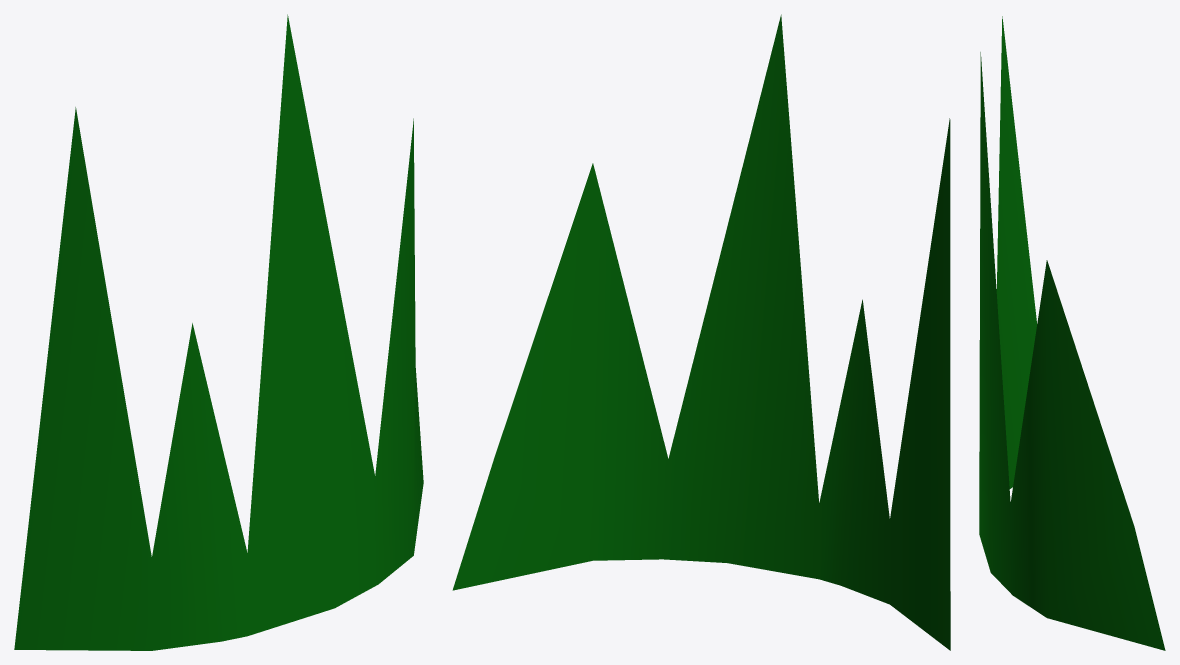
Rendered from grass_1.FBX.
3 views of the same model, side by side, from view 1: azimuth 30°, elevation 25°; view 2: azimuth 150°, elevation 25°; view 3: azimuth 270°, elevation 25° (orthographic). The views are drawn at different scales.
Parts seen in each view (by area): view 1: Plane003; view 2: Plane003; view 3: Plane003.
Boxes of the visible parts, <box> form: Plane003: <box>14,14,423,650</box>; Plane003: <box>452,14,950,650</box>; Plane003: <box>979,16,1165,650</box>.
Bounding box in the file's own units: 17.38 × 21.24 × 7.14.
